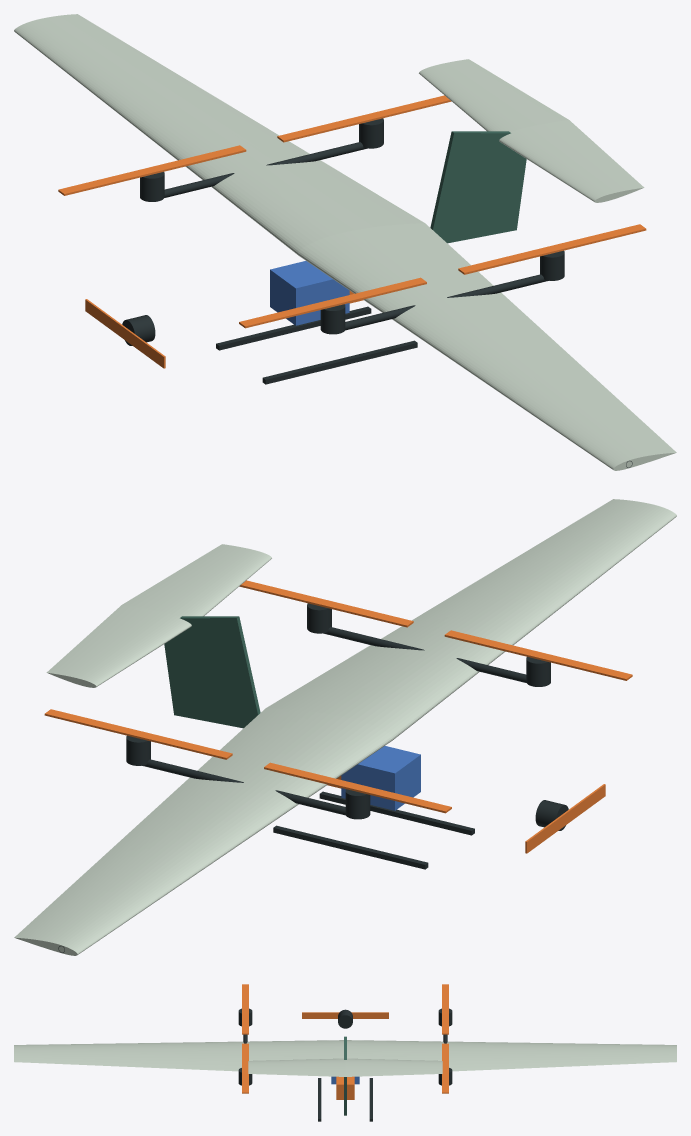
Rendered from 12-internal.glb.
The picture shows the model from 3 angles, top to bottom: view 1: azimuth 30°, elevation 25°; view 2: azimuth 150°, elevation 25°; view 3: azimuth 270°, elevation 25°; orthographic projection. The views are drawn at different scales.
Visible parts, largest first — view 1: wing-1, wing1, fin, tail-1, tail1, payload, prop_-1_700.0, prop_-1_210.0, prop_1_210.0, prop_1_700.0, skid-1, boom-1 (+5 smaller); view 2: wing1, wing-1, fin, tail1, tail-1, payload, prop_1_700.0, prop_1_210.0, prop_-1_210.0, prop_-1_700.0, skid1, boom1 (+5 smaller); view 3: wing-1, wing1, tail-1, tail1, cruise_prop, battery, prop_-1_210.0, prop_-1_700.0, prop_1_210.0, prop_1_700.0, cruise_motor.
Part boxes in pixels (x1=…): wing-1: x1=297, y1=223, x2=676, y2=470; wing1: x1=14, y1=14, x2=424, y2=254; fin: x1=430, y1=131, x2=526, y2=243; tail-1: x1=499, y1=120, x2=644, y2=202; tail1: x1=419, y1=59, x2=568, y2=132; payload: x1=270, y1=261, x2=349, y2=325; prop_-1_700.0: x1=458, y1=224, x2=646, y2=274; prop_-1_210.0: x1=239, y1=277, x2=426, y2=328; prop_1_210.0: x1=58, y1=145, x2=246, y2=195; prop_1_700.0: x1=277, y1=95, x2=451, y2=142; skid-1: x1=262, y1=340, x2=417, y2=384; boom-1: x1=345, y1=274, x2=548, y2=330; wing1: x1=14, y1=708, x2=393, y2=955; wing-1: x1=266, y1=499, x2=676, y2=739; fin: x1=164, y1=616, x2=260, y2=728; tail1: x1=46, y1=605, x2=191, y2=687; tail-1: x1=122, y1=544, x2=271, y2=617; payload: x1=341, y1=746, x2=420, y2=810; prop_1_700.0: x1=44, y1=709, x2=232, y2=759; prop_1_210.0: x1=264, y1=762, x2=451, y2=813; prop_-1_210.0: x1=444, y1=630, x2=632, y2=680; prop_-1_700.0: x1=239, y1=580, x2=413, y2=627; skid1: x1=273, y1=825, x2=428, y2=869; boom1: x1=142, y1=759, x2=345, y2=815; wing-1: x1=14, y1=1040, x2=343, y2=1071; wing1: x1=347, y1=1040, x2=676, y2=1071; tail-1: x1=248, y1=1058, x2=345, y2=1076; tail1: x1=345, y1=1058, x2=442, y2=1076; cruise_prop: x1=302, y1=1012, x2=388, y2=1018; battery: x1=336, y1=1076, x2=354, y2=1099; prop_-1_210.0: x1=242, y1=984, x2=248, y2=1034; prop_-1_700.0: x1=242, y1=1043, x2=248, y2=1093; prop_1_210.0: x1=442, y1=984, x2=448, y2=1034; prop_1_700.0: x1=442, y1=1043, x2=448, y2=1093; cruise_motor: x1=338, y1=1009, x2=352, y2=1028.
Bounding box in the file's own units: 994 × 390 × 2320.
